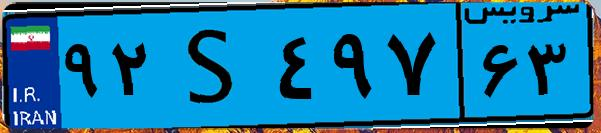2: (110, 28, 158, 98)
3: (525, 38, 570, 115)
4: (270, 28, 330, 110)
6: (475, 38, 525, 113)
7: (385, 28, 445, 110)
9: (330, 28, 385, 110), (57, 26, 110, 100)
S: (158, 12, 270, 120)
